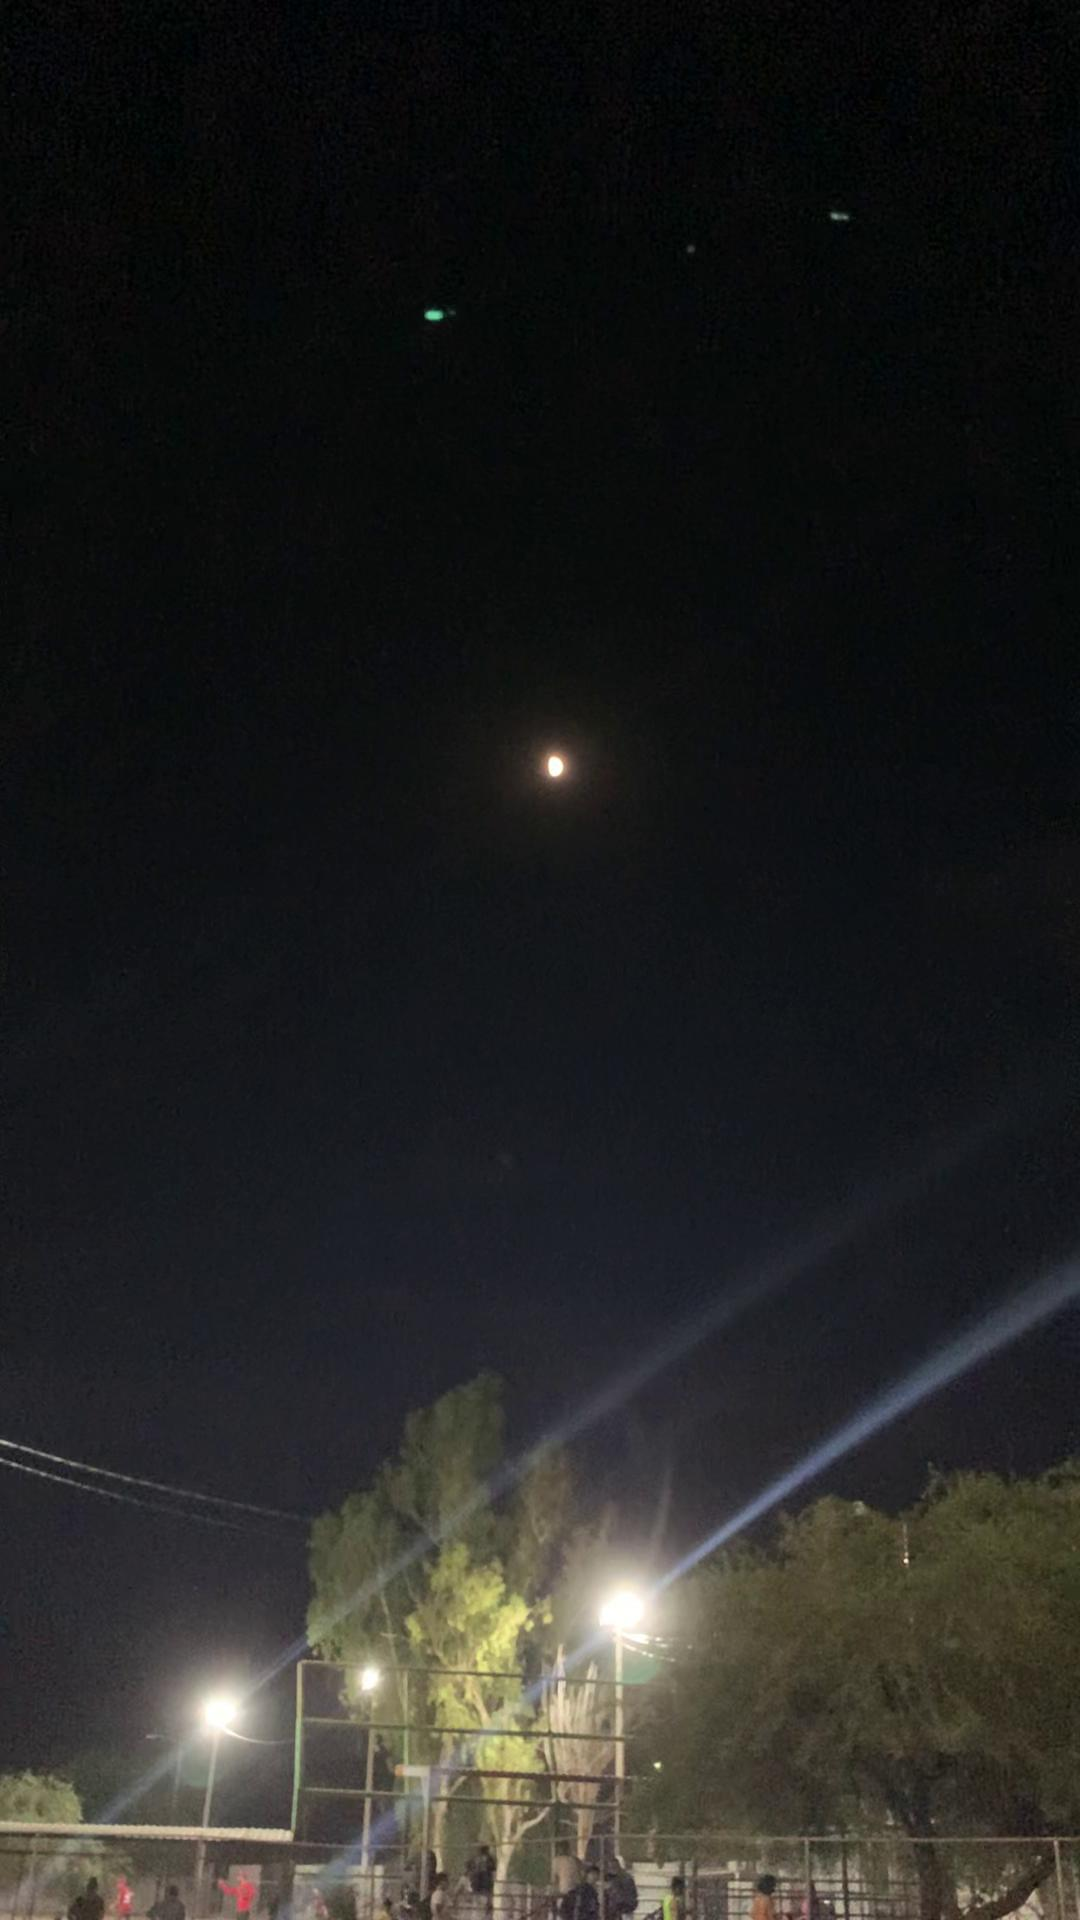moon: (518, 727, 597, 815)
